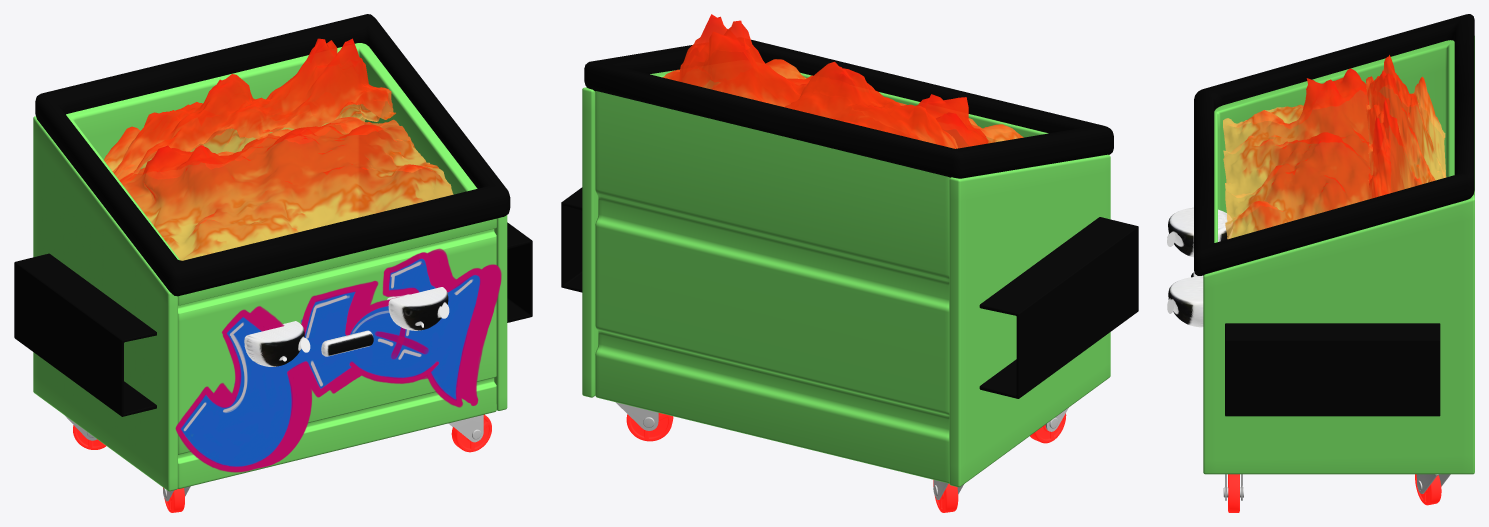
3 renders of one model, left to right at view 1: azimuth 30°, elevation 25°; view 2: azimuth 150°, elevation 25°; view 3: azimuth 270°, elevation 25°, orthographic. The views are drawn at different scales.
Visible parts, largest first — view 1: Dumpster Geometry, Small Fire, Fire Small Back, Wheel Holder; view 2: Dumpster Geometry, Fire Small Back, Small Fire, Wheel Holder; view 3: Dumpster Geometry, Small Fire, Fire Small Back, Wheel Holder.
Boxes of the visible parts, x1=… form: Dumpster Geometry: x1=14, y1=14, x2=532, y2=512; Small Fire: x1=119, y1=117, x2=453, y2=260; Fire Small Back: x1=104, y1=38, x2=395, y2=184; Wheel Holder: x1=65, y1=415, x2=483, y2=501; Dumpster Geometry: x1=561, y1=39, x2=1138, y2=512; Fire Small Back: x1=662, y1=14, x2=957, y2=148; Small Fire: x1=712, y1=59, x2=1023, y2=148; Wheel Holder: x1=616, y1=402, x2=1068, y2=499; Dumpster Geometry: x1=1167, y1=14, x2=1474, y2=512; Small Fire: x1=1223, y1=68, x2=1390, y2=239; Fire Small Back: x1=1366, y1=55, x2=1446, y2=198; Wheel Holder: x1=1223, y1=474, x2=1450, y2=500.
Bounding box in the file's own units: 2.3 × 2.01 × 1.5.
Materials: 8 (4 with a texture image).
